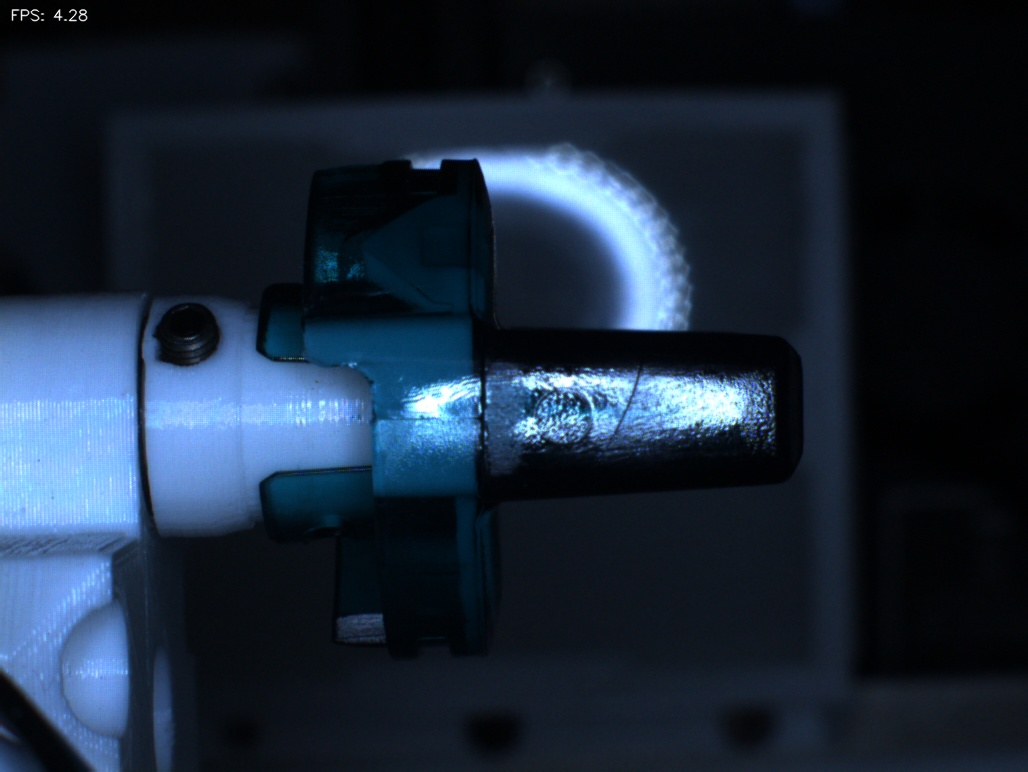DentOk: (335, 215, 416, 305)
